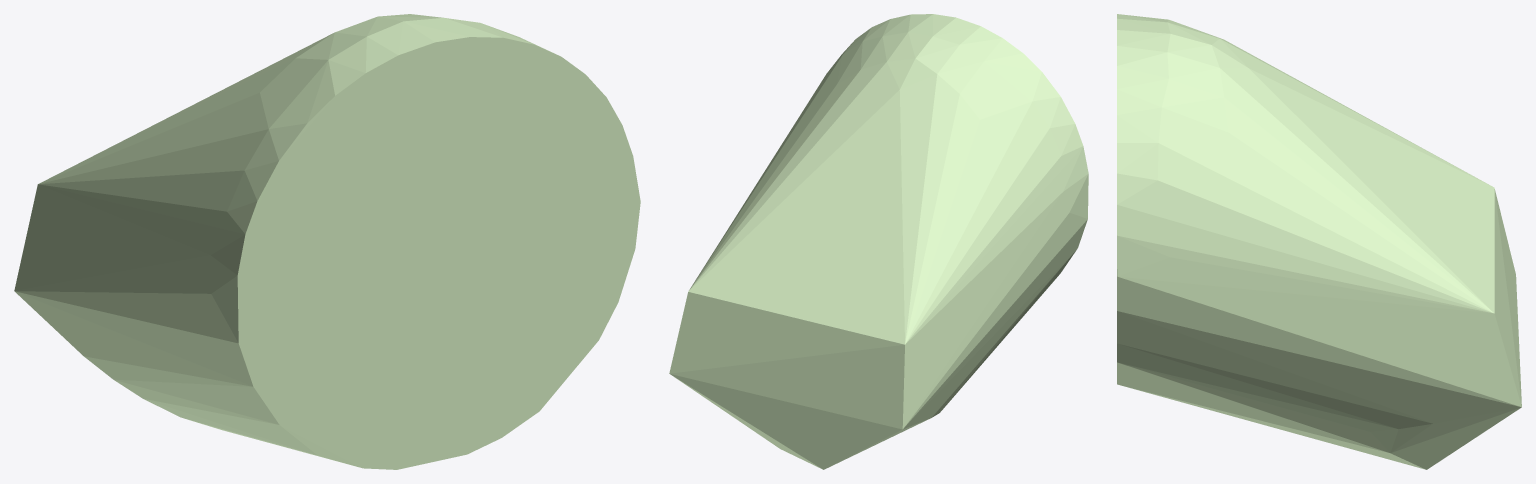
Rendered from kuka_URDF_link5_resp_coll_1.dae.
The picture shows the model from 3 angles, left to right: view 1: azimuth 30°, elevation 25°; view 2: azimuth 150°, elevation 25°; view 3: azimuth 270°, elevation 25°; orthographic projection. The views are drawn at different scales.
Visible parts, largest first — view 1: Node_0000020FCC58CF90; view 2: Node_0000020FCC58CF90; view 3: Node_0000020FCC58CF90.
Part boxes in pixels (x1,y1,x2,y2): Node_0000020FCC58CF90: (14, 14, 640, 469); Node_0000020FCC58CF90: (669, 14, 1088, 469); Node_0000020FCC58CF90: (1117, 14, 1521, 469).
Bounding box in the file's own units: 0.136 × 0.1717 × 0.1486.
